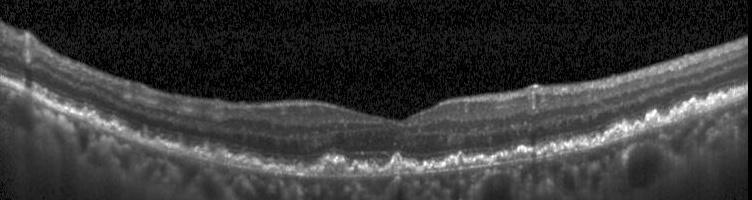retinal_drusen: (390, 155, 411, 175), (324, 160, 345, 176), (604, 127, 626, 142), (445, 154, 465, 168), (78, 109, 97, 123), (365, 161, 378, 177), (212, 151, 229, 163), (540, 143, 555, 156), (646, 113, 658, 127), (685, 103, 696, 116), (712, 96, 725, 107), (106, 121, 119, 132), (513, 149, 528, 158), (249, 159, 262, 169), (233, 157, 247, 166), (670, 110, 681, 121), (495, 153, 509, 161), (422, 163, 437, 170), (474, 158, 486, 165), (574, 143, 586, 150), (353, 164, 359, 175), (698, 104, 706, 112), (635, 123, 642, 132), (267, 166, 279, 171), (590, 138, 598, 145), (562, 145, 569, 152)
